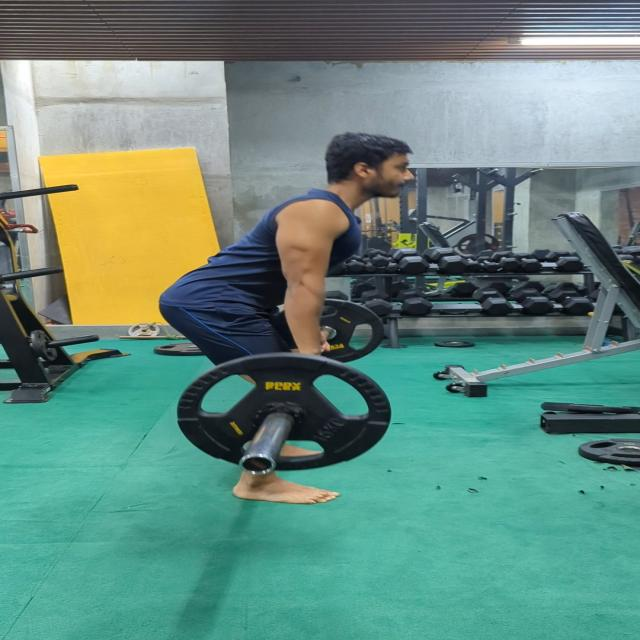Normal_Deadlifts: (156, 132, 416, 506)
